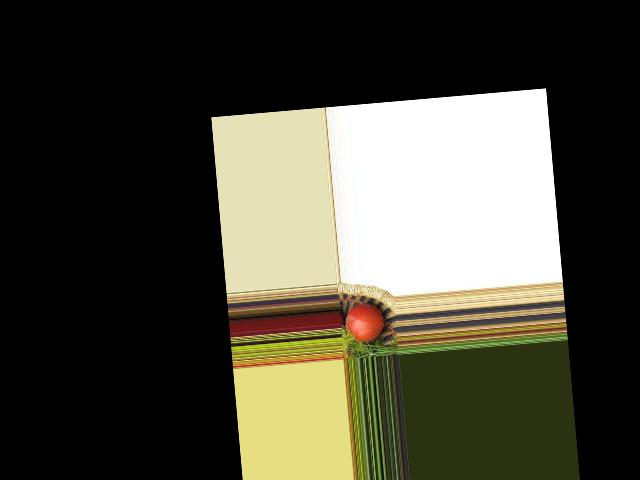tomato: (344, 302, 385, 344)
